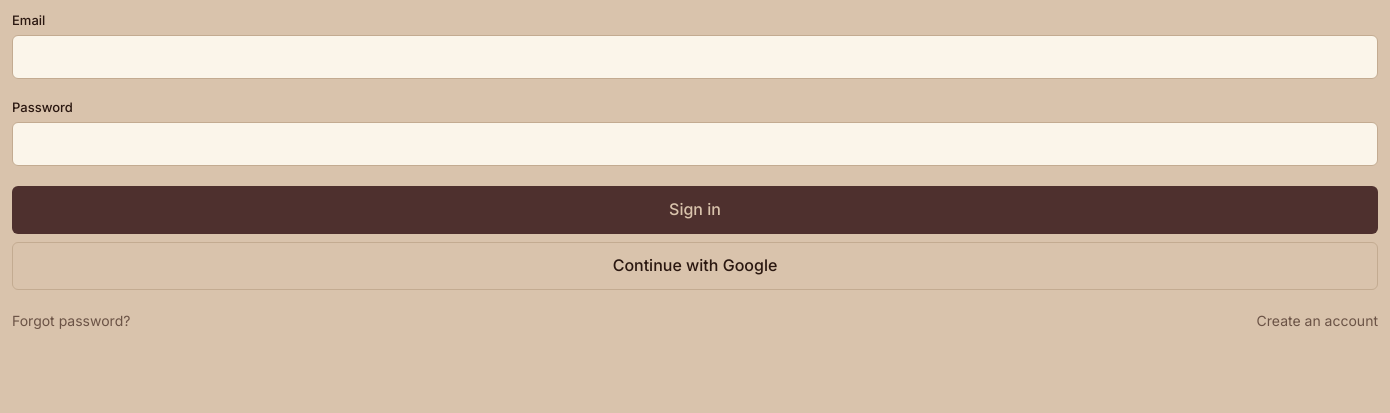
Test case: SignInForm › humanizes wrong-password errors
Step 1. Type "alice@example.com" into the field labelled "Email" → (695, 57), box top-left (12, 35), bottom-right (1378, 79)
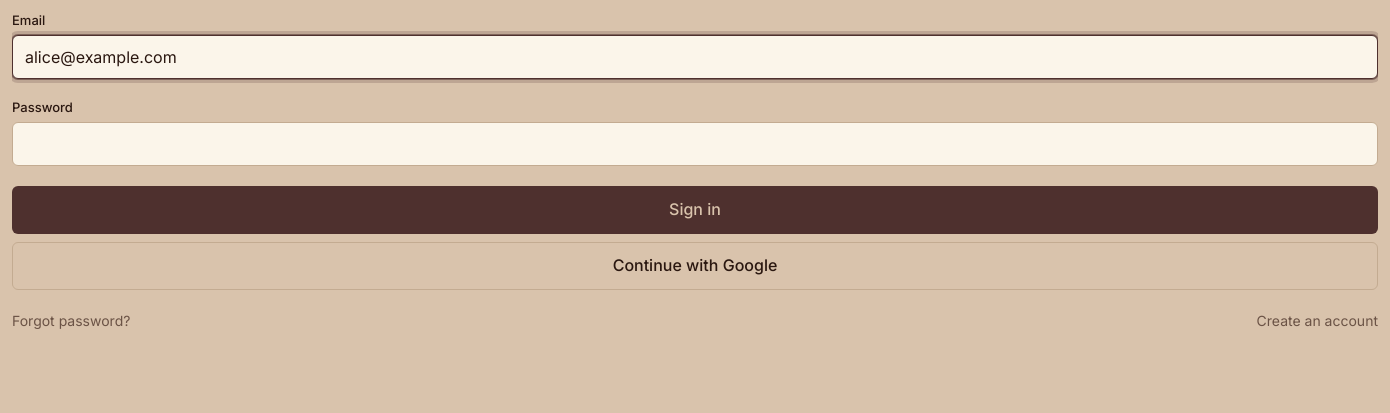
Step 2. Type "wrongpassw0rd!" into the password field labelled "Password" → (695, 144), box top-left (12, 122), bottom-right (1378, 166)
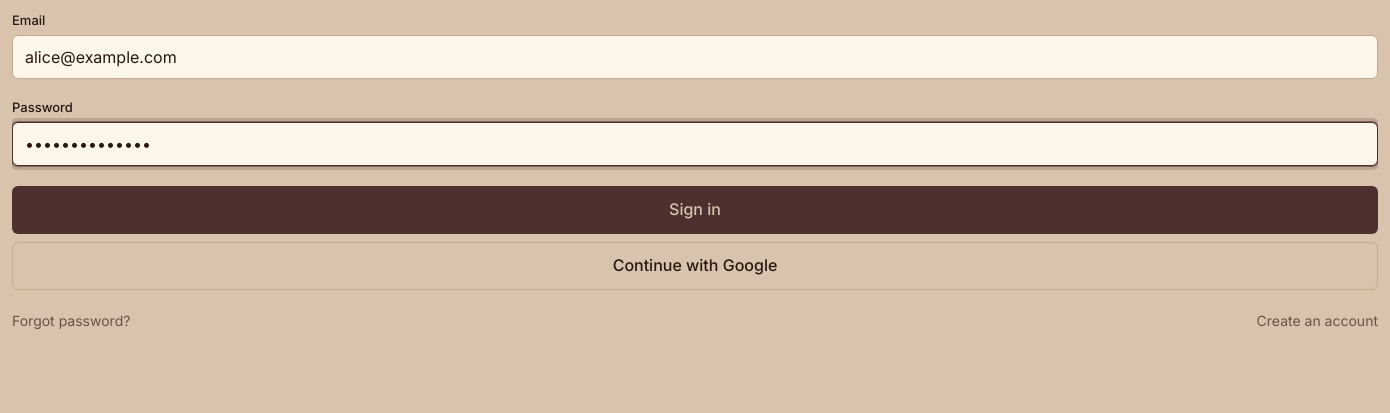
Step 3. Click the button "Sign in" → (695, 210), box top-left (12, 186), bottom-right (1378, 234)
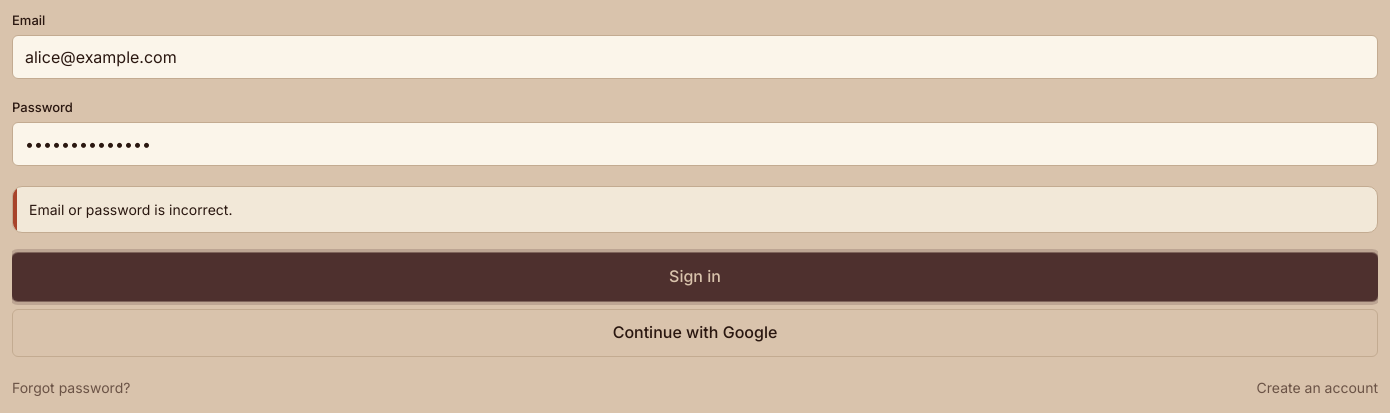
Check: the text "Email or password is incorrect." is shown, box top-left (29, 201), bottom-right (232, 218)
